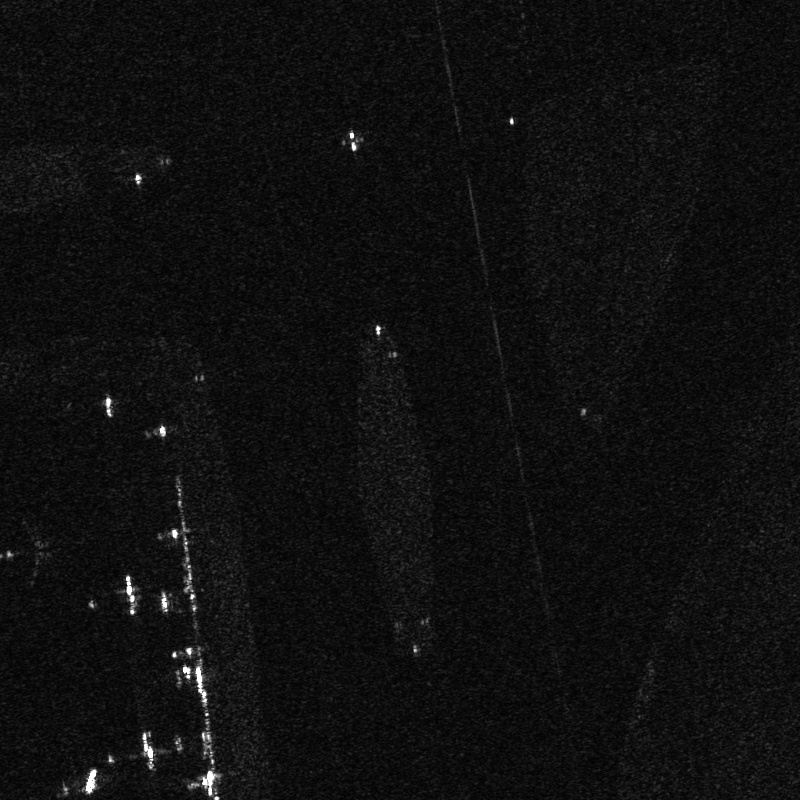Boeing737: (1, 516, 63, 592)
